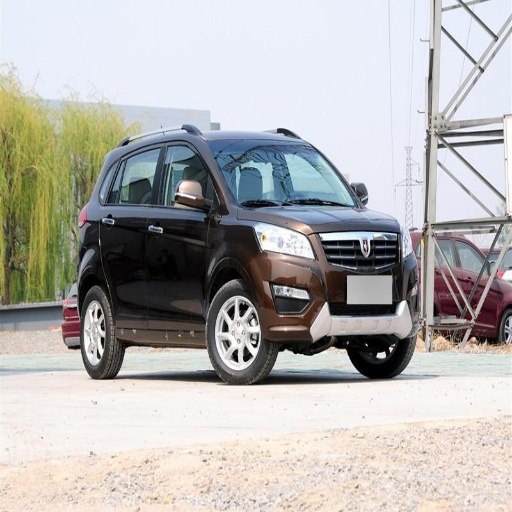front_bumper: (261, 232, 420, 343)
front_right_door: (149, 140, 219, 325)
front_right_light: (257, 227, 316, 260)
hood: (254, 206, 399, 232)
